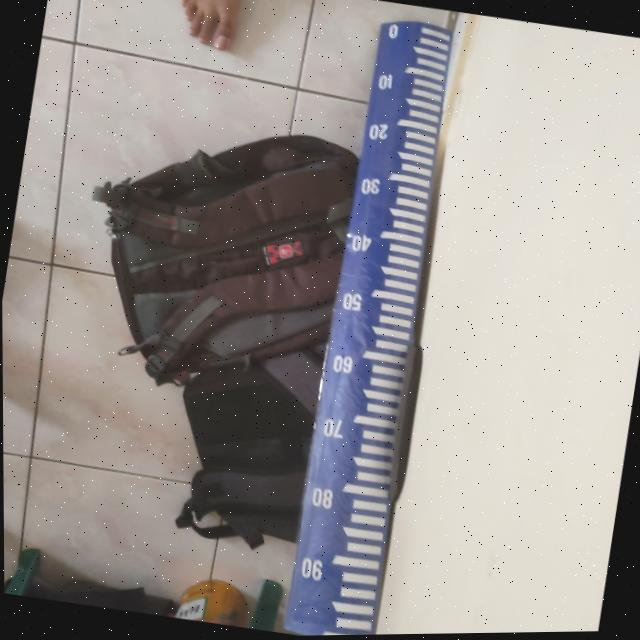water-meter: (266, 2, 485, 636)
